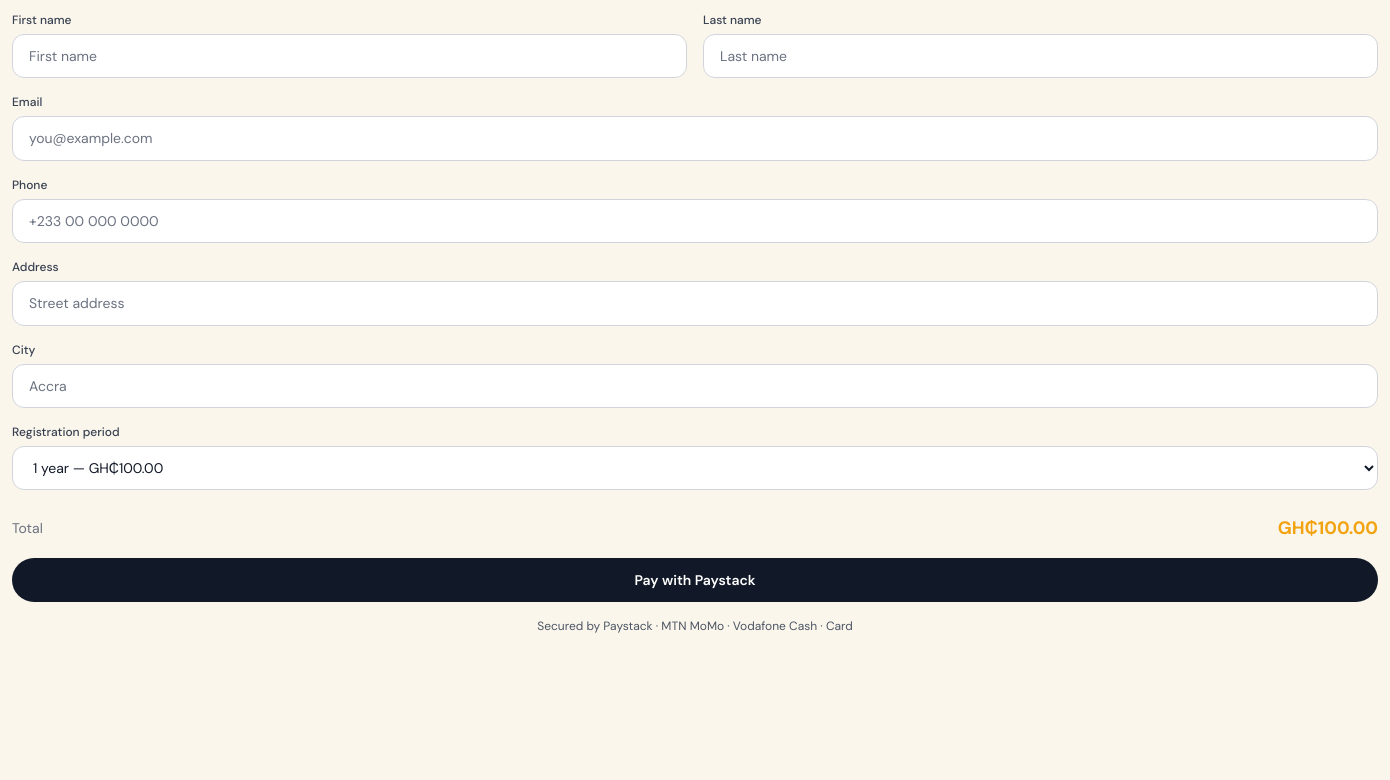
it: CheckoutForm › shows a fallback error when no authorization URL comes back
Step 1. Type "Ama" into the field with placeholder "First name" → (350, 56), box [12,34,687,78]
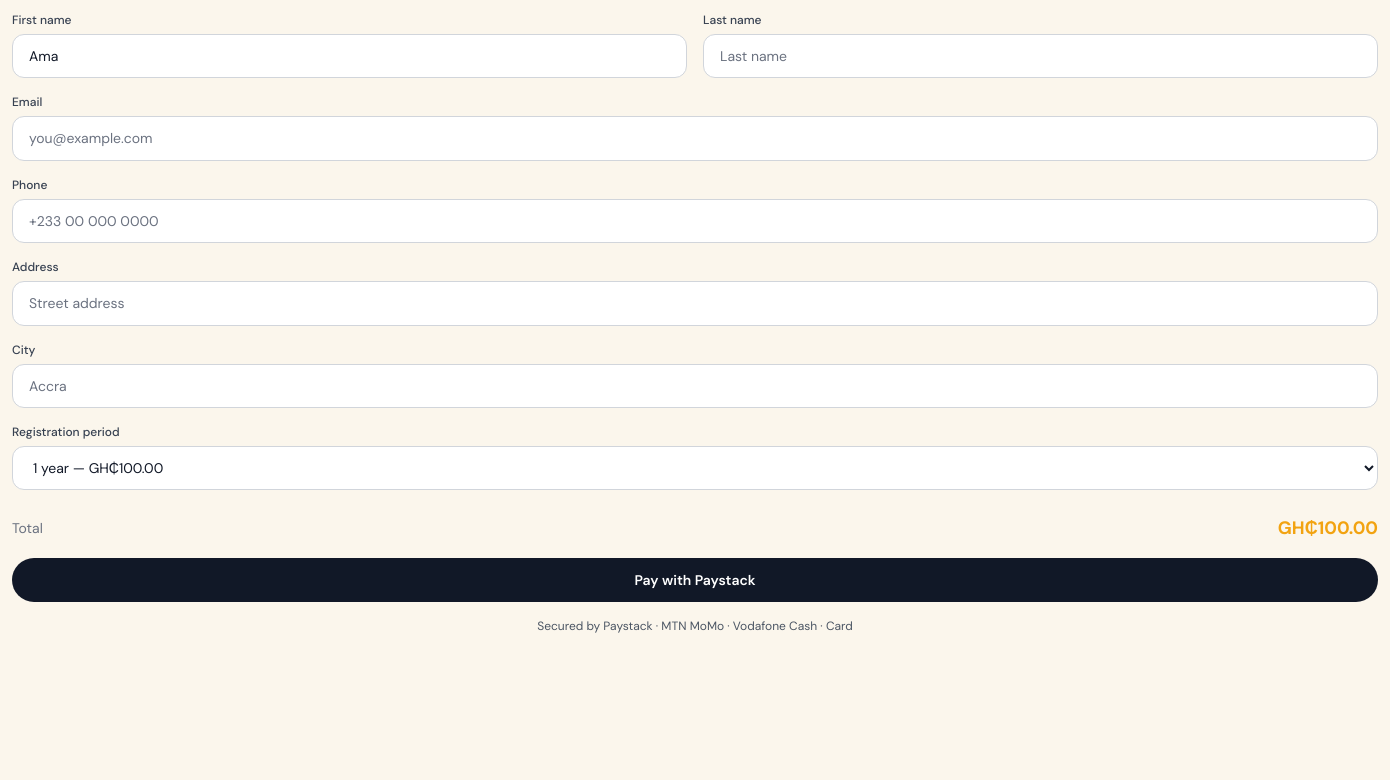
Step 2. Type "Owusu" into the field with placeholder "Last name" → (1040, 56), box [703,34,1378,78]
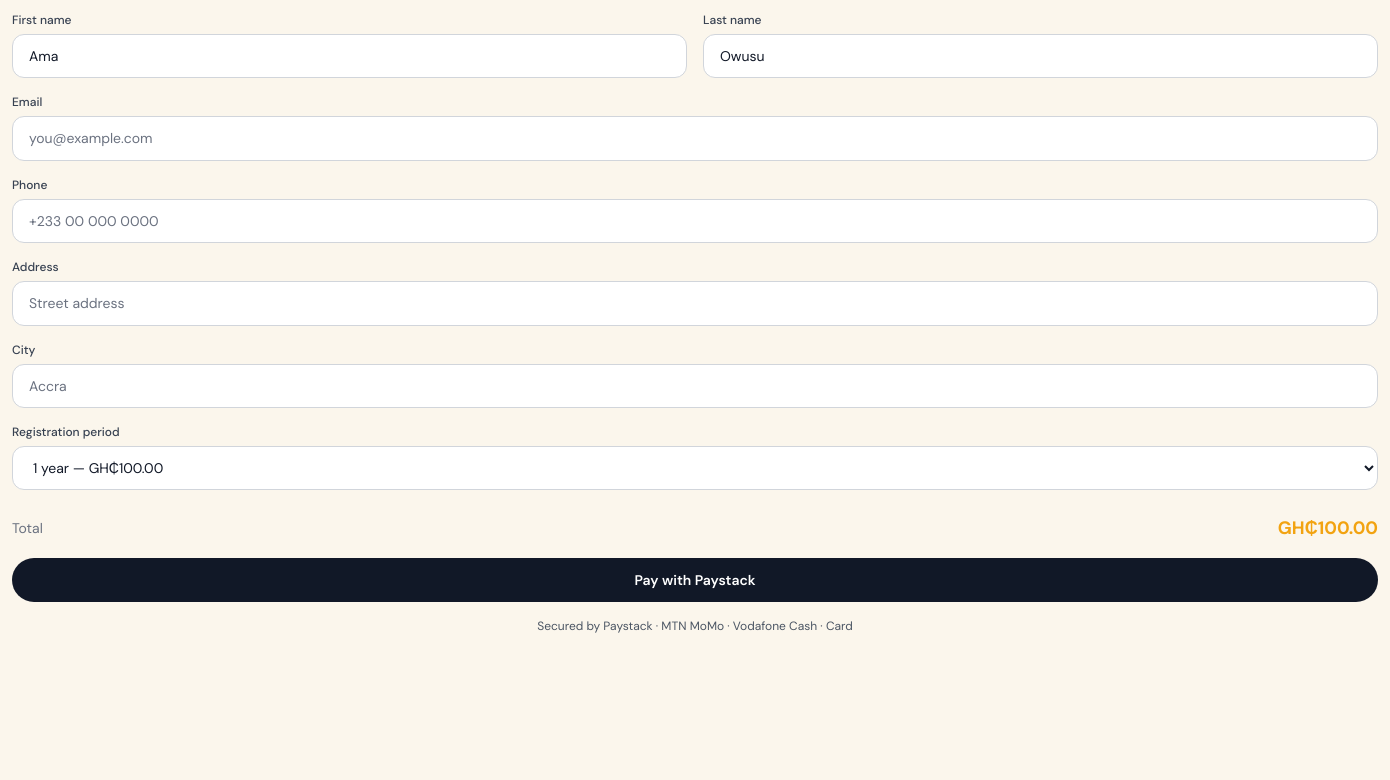
Step 3. Type "ama@example.com" into the field with placeholder "you@example.com" → (695, 139), box [12,116,1378,161]
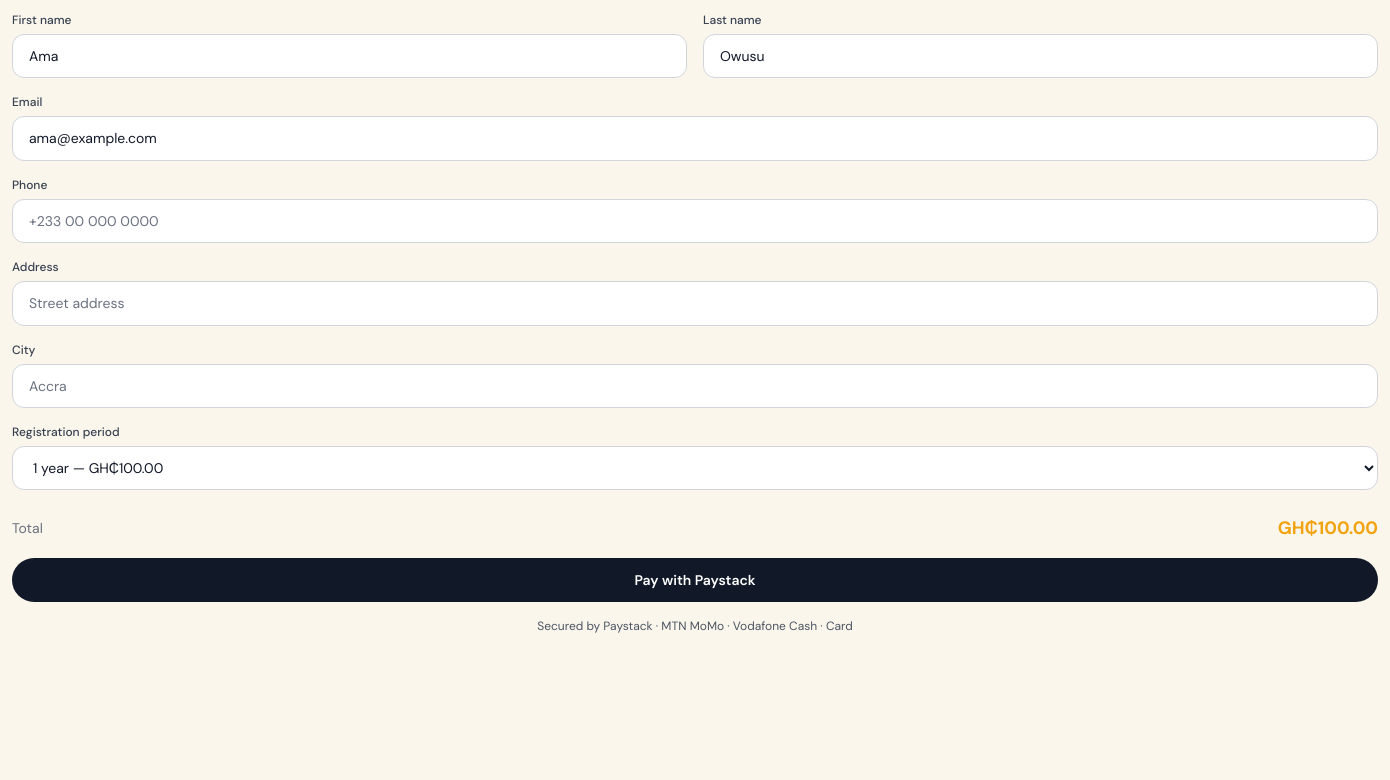
Step 4. Click the button "Pay with Paystack" → (695, 580), box [12,558,1378,602]
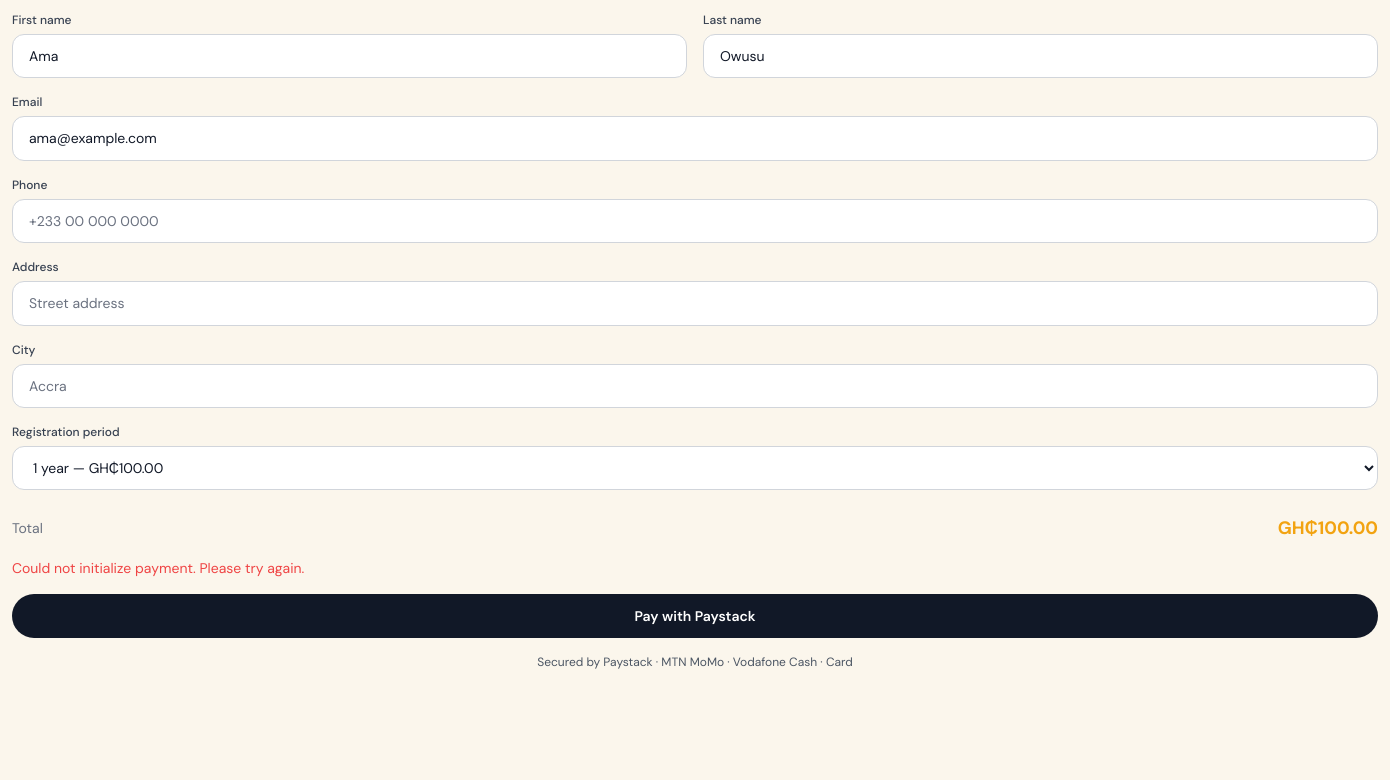
Check: the text "Could not initialize payment. Please try again." is shown, box [12,559,304,577]
